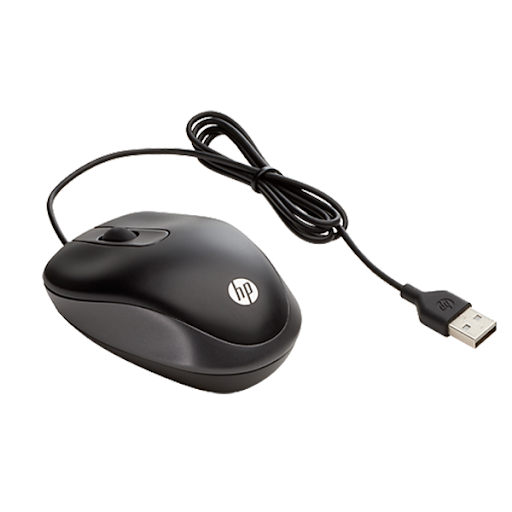hp-mouse-X1000: (21, 111, 490, 407)
